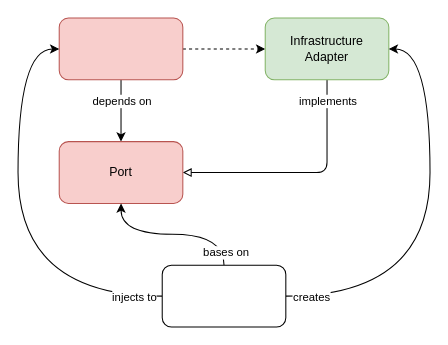
The diagram is 448 pixels wide and 345 high, and some of its shapes have lost their labels. Each missing label, with the centre of its shape:
"Application" belongs at point 120,48.
"IoC-container of DI-framework" belongs at point 223,295.
